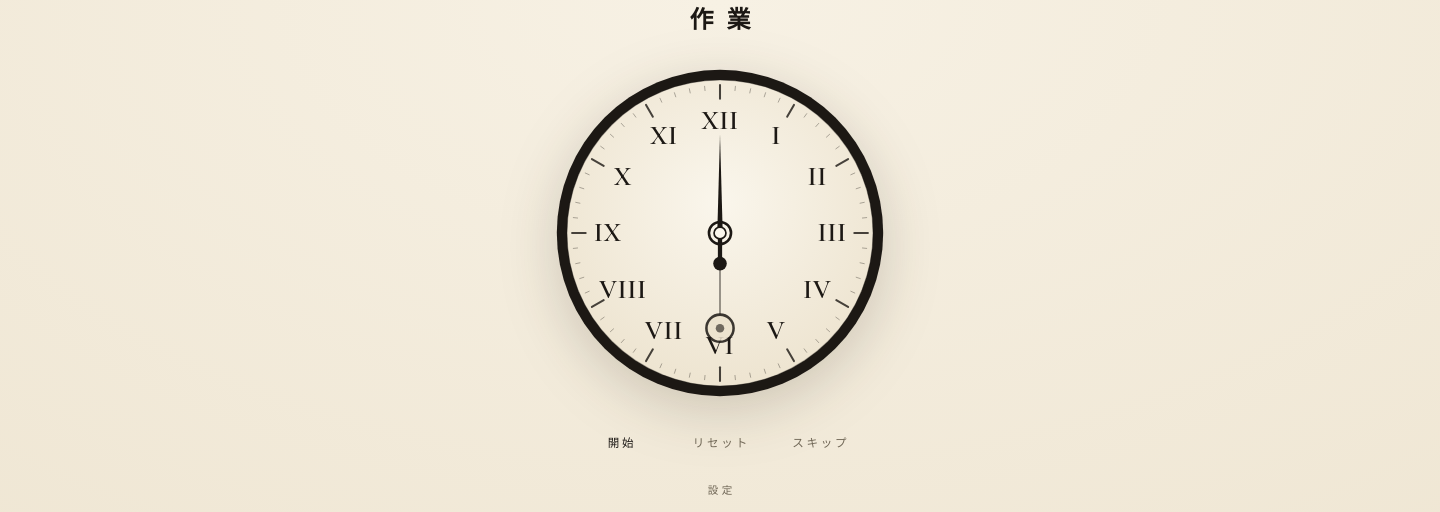
Test: PomodoroTimer › 開始すると主ボタンが一時停止になり、時間が経つと残りが減る
The width and height of the screenshot is (1440, 512).
Click the button "開始". click: (622, 442)
box: left=606, top=431, right=638, bottom=453
Wait 5000 ms
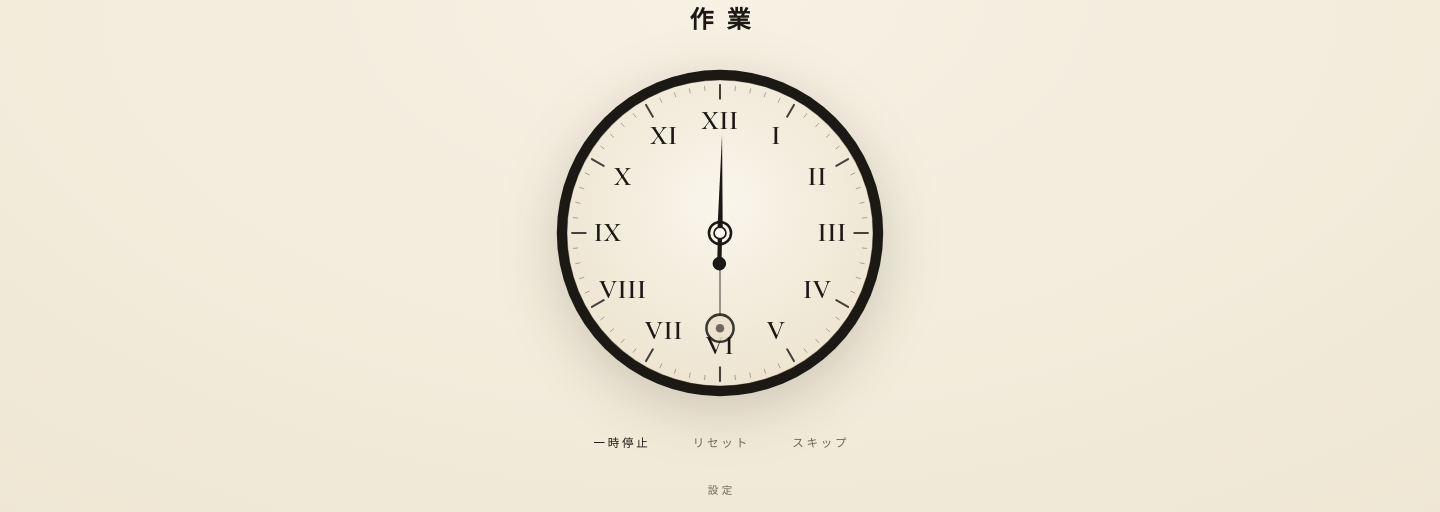
Expected: the button "一時停止" is shown, left=592, top=431, right=652, bottom=453
